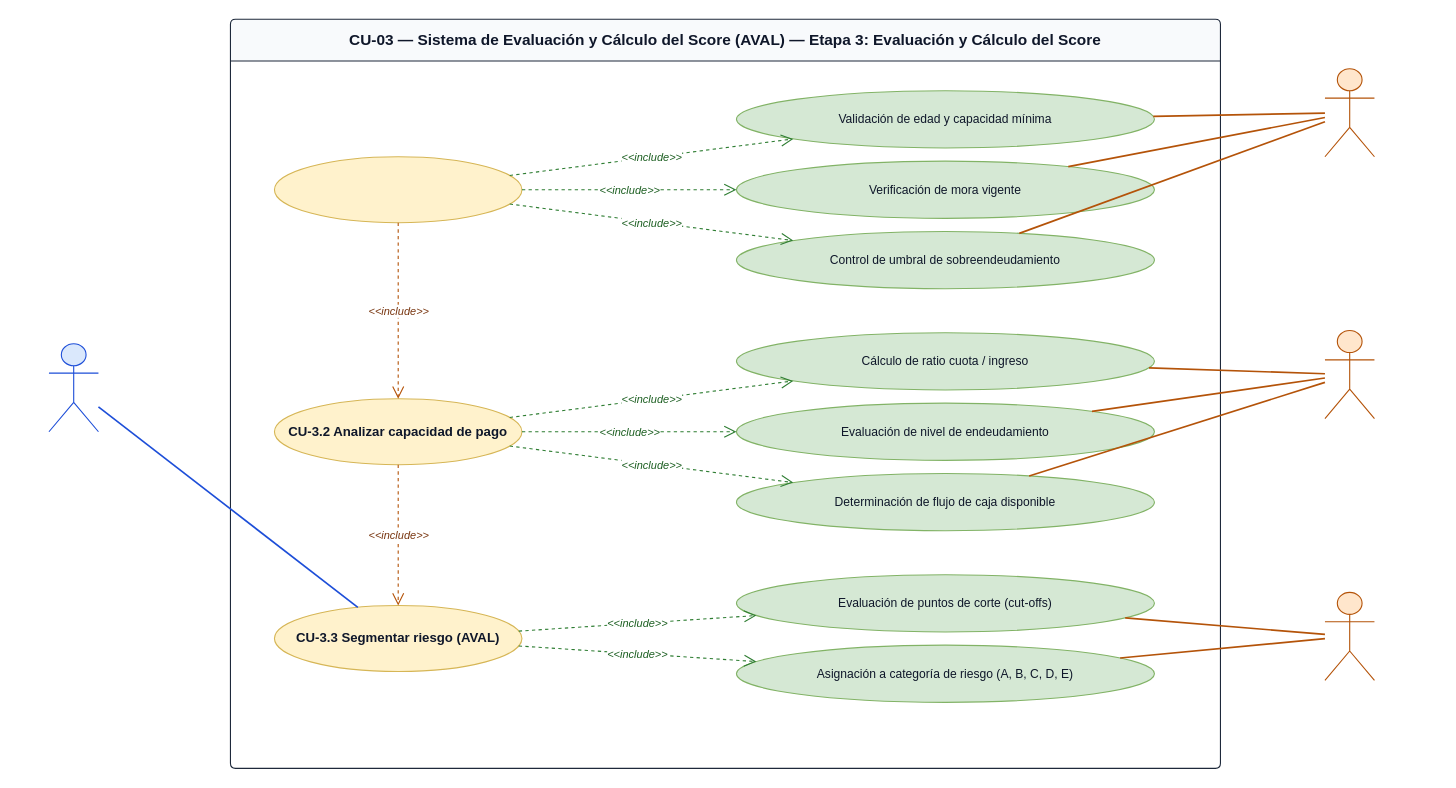
Some shapes in this 1456 by 788 pixel diagram are drawn without their labels. The box of each missing label's shape, as (x1, y1, x2, y2) in pixels:
Analista de Riesgo Crediticio: (48, 343, 98, 432)
CU-3.1 Aplicar filtros de política: (273, 156, 522, 223)
Motor de Reglas y BD de Políticas: (1324, 68, 1374, 157)
Motor de Segmentación y BD de Calificaciones (AVAL): (1324, 591, 1374, 680)
Motor Financiero y BD de Capacidad de Pago: (1324, 329, 1374, 419)
